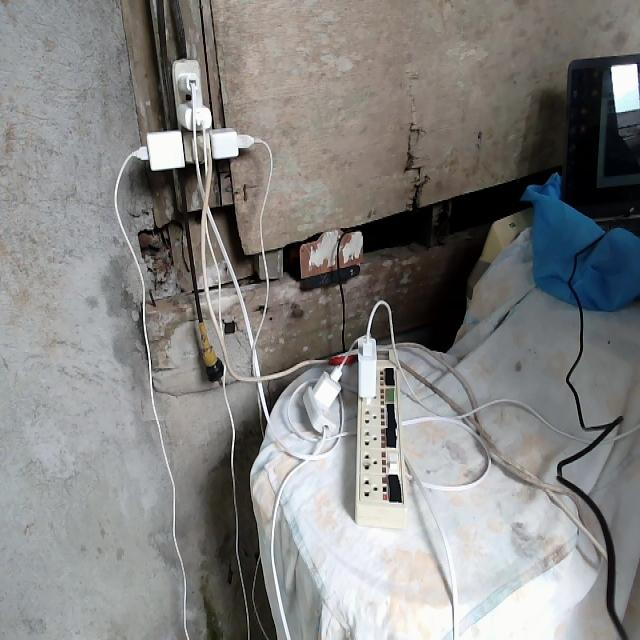-: (130, 57, 259, 172)
